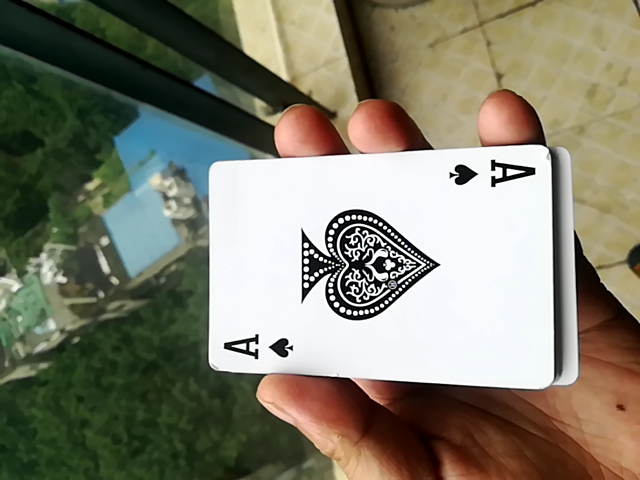ht a: (211, 147, 560, 399)
